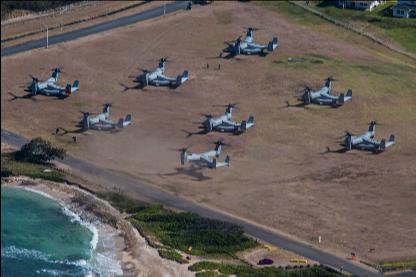Tornado: (165, 137, 233, 169), (333, 118, 395, 150), (197, 100, 254, 132), (294, 76, 352, 105), (221, 26, 278, 54), (76, 102, 132, 130), (136, 56, 188, 86), (25, 66, 79, 94)
